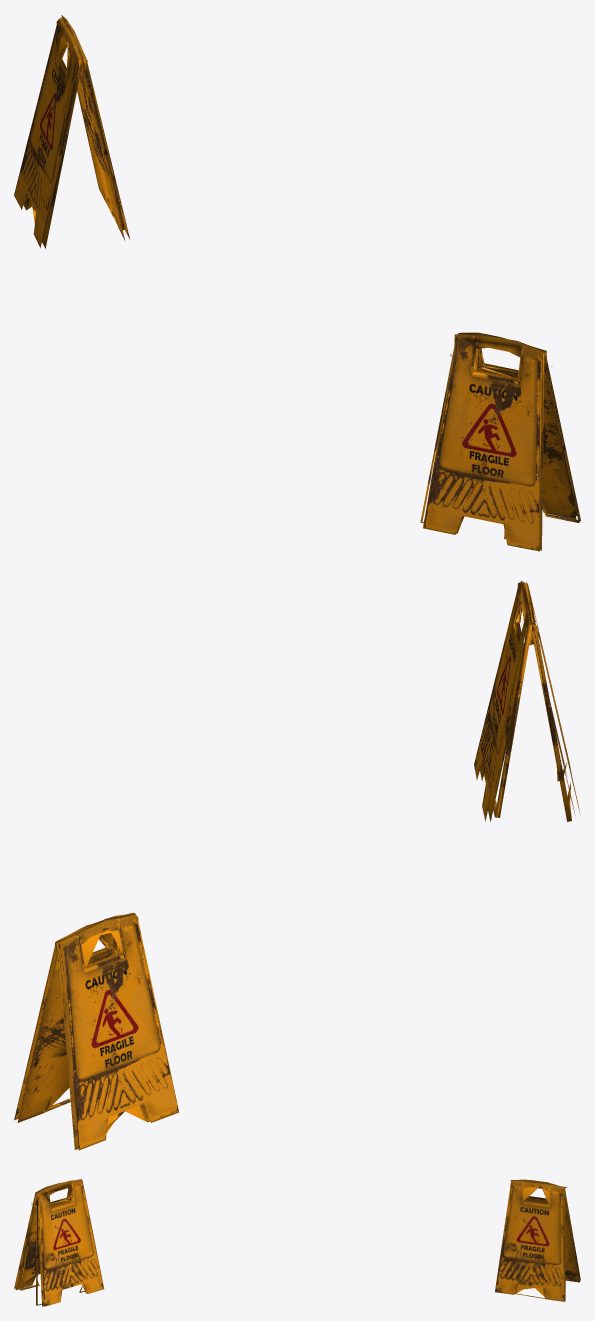
The model's file is Caution.glb.
3 renders of one model, top to bottom at view 1: azimuth 30°, elevation 25°; view 2: azimuth 150°, elevation 25°; view 3: azimuth 270°, elevation 25°, orthographic. The views are drawn at different scales.
Parts seen in each view (by area): view 1: Warning_Sign_Board_Low_Poly__0.001; view 2: Warning_Sign_Board_Low_Poly__0.001; view 3: Warning_Sign_Board_Low_Poly__0.001.
Boxes of the visible parts, box(x1,y1,x2,y2) form: Warning_Sign_Board_Low_Poly__0.001: box(14, 15, 580, 551); Warning_Sign_Board_Low_Poly__0.001: box(14, 581, 580, 1150); Warning_Sign_Board_Low_Poly__0.001: box(14, 1179, 580, 1306).
Bounding box in the file's own units: 0.1104 × 0.1525 × 0.7367.
1 material, 1 textured.
